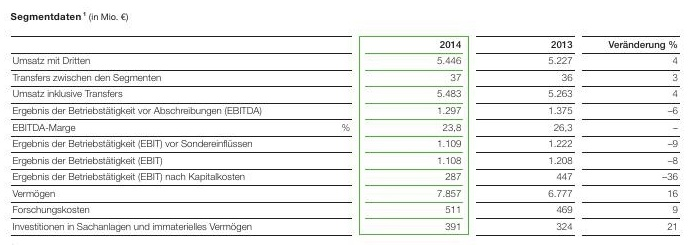table: (0, 0, 694, 245)
